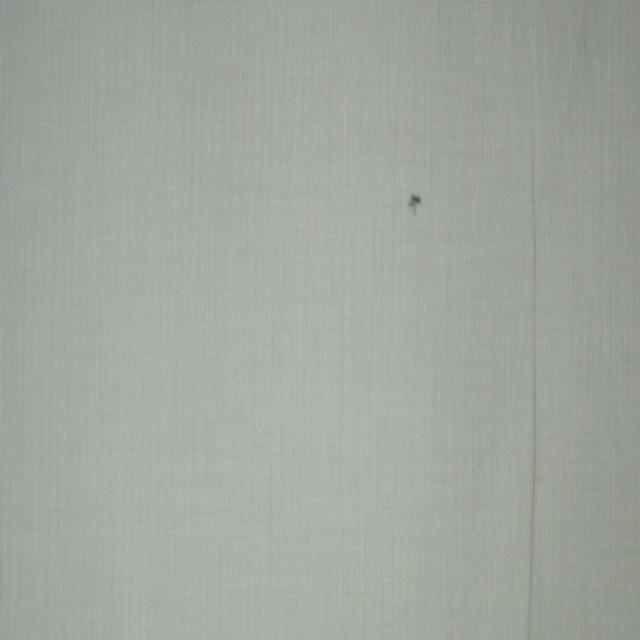dirty: (408, 192, 422, 212)
